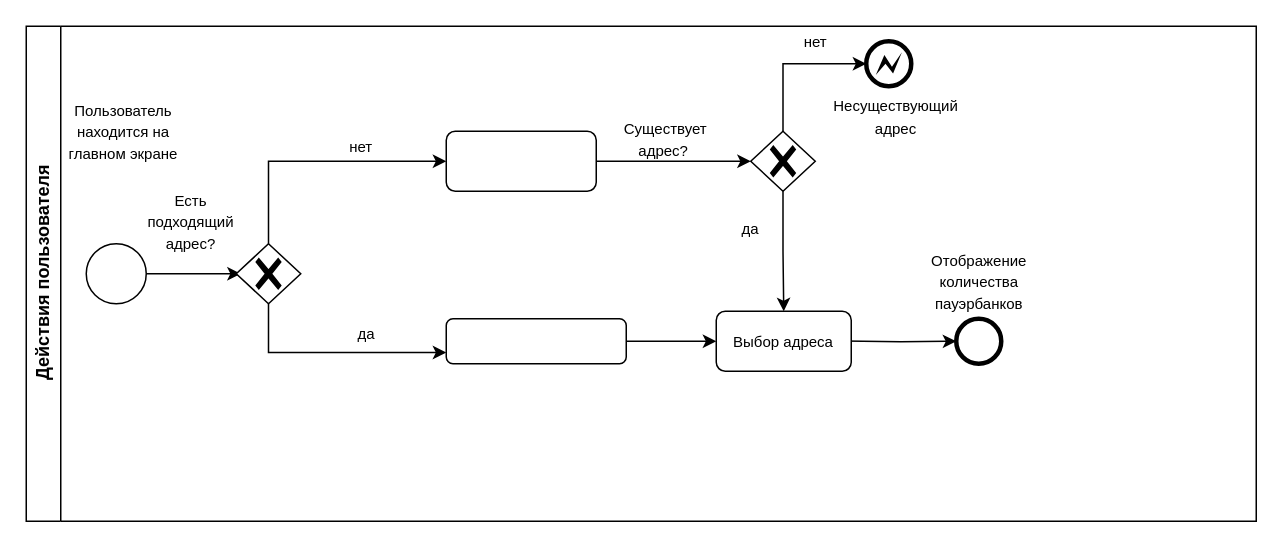
Image size: 1283x548. Some labels were removed from this diagram. The centre of each missing label's shape, as x and y in pixels:
"Адрес есть в списке" belongs at pixel 535 340.
"Адреса нет в списке, пользователь вводит его в ручную" belongs at pixel 520 160.
